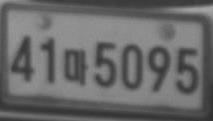0: (121, 43, 144, 89)
1: (38, 37, 61, 84)
4: (10, 35, 35, 83)
5: (174, 48, 200, 94), (92, 40, 117, 87)
9: (147, 46, 172, 91)
마: (63, 48, 89, 86)
